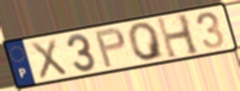3: (66, 32, 97, 73), (196, 11, 225, 50)
H: (155, 12, 202, 61)
P: (93, 26, 127, 70)
Q: (126, 20, 167, 63)
X: (28, 37, 70, 81)
